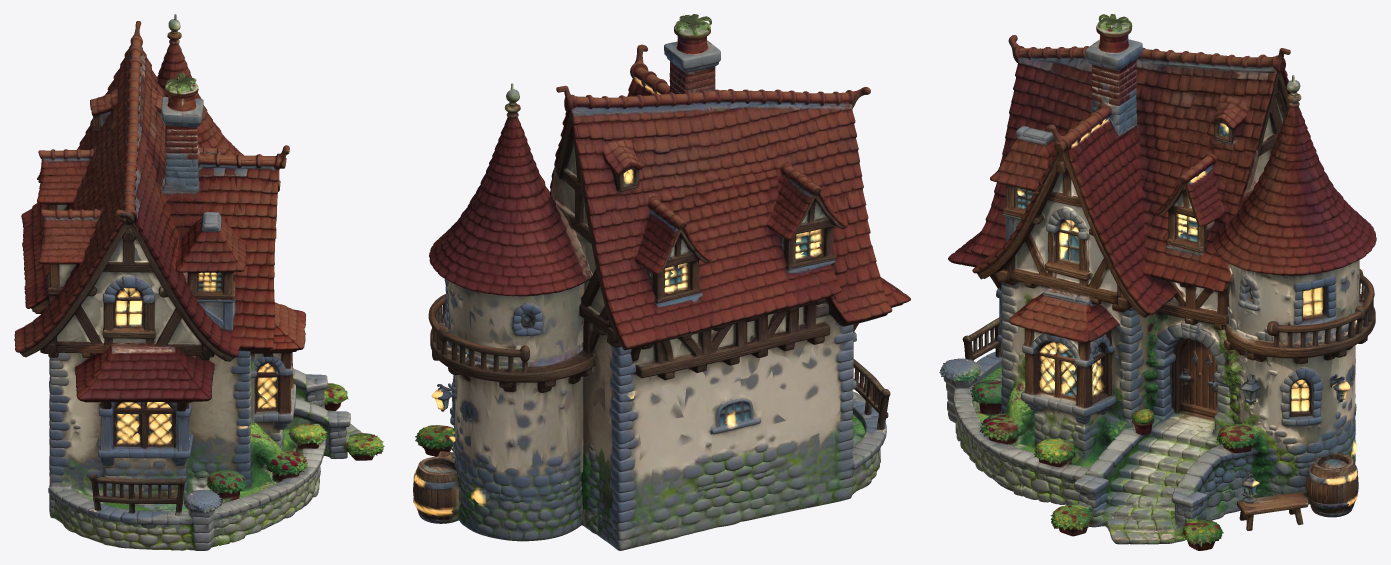
Rendered from StorybookCottage_300k.glb.
The picture shows the model from 3 angles, left to right: view 1: azimuth 30°, elevation 25°; view 2: azimuth 150°, elevation 25°; view 3: azimuth 270°, elevation 25°; orthographic projection. The views are drawn at different scales.
Parts seen in each view (by area): view 1: Mesh_0; view 2: Mesh_0; view 3: Mesh_0.
Boxes of the visible parts, left/top/right/bottom form: Mesh_0: left=14, top=14, right=384, bottom=550; Mesh_0: left=413, top=14, right=910, bottom=550; Mesh_0: left=939, top=14, right=1376, bottom=550.
Size of the model in its own units: 1.95 by 2 by 1.84.
Materials: 1 (1 with a texture image).
